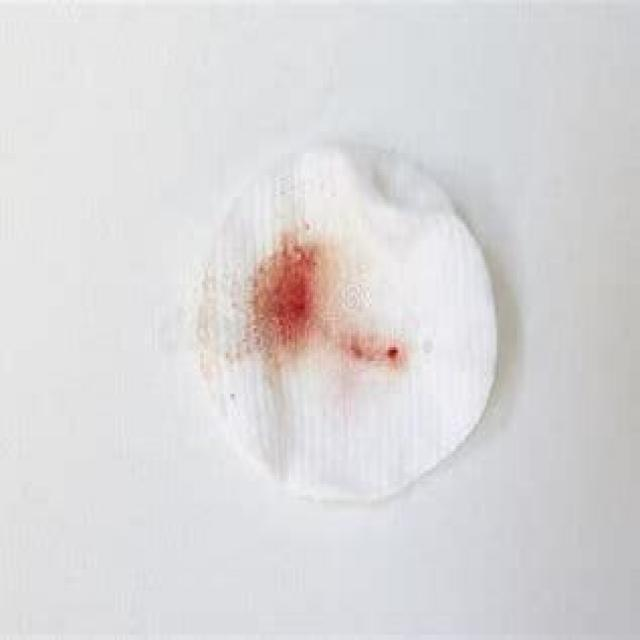wound: (246, 230, 328, 360), (340, 313, 428, 393)
